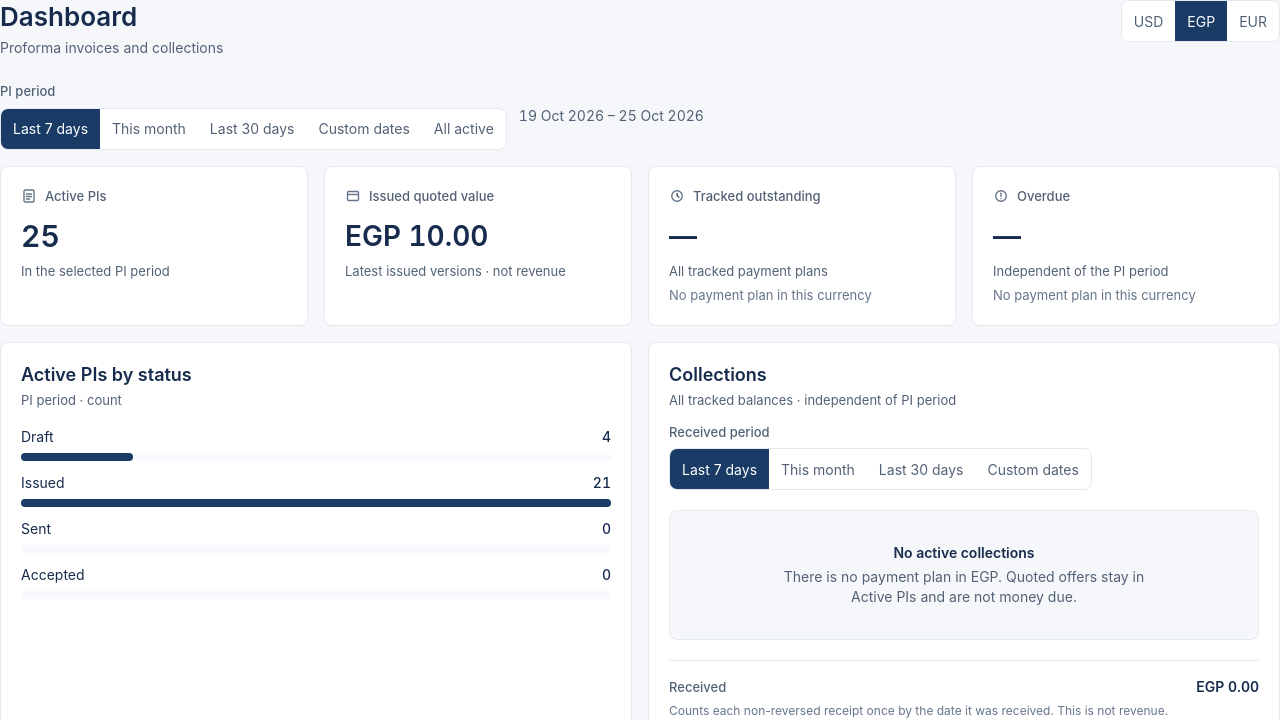
Test: dashboard currency, filters, and figures › keeps the currency in the address and does not switch it when later data includes another currency
This screenshot has width=1280, height=720.
Click the button "USD" at (1149, 21), box [1122,1,1175,41]
(page scrolled)
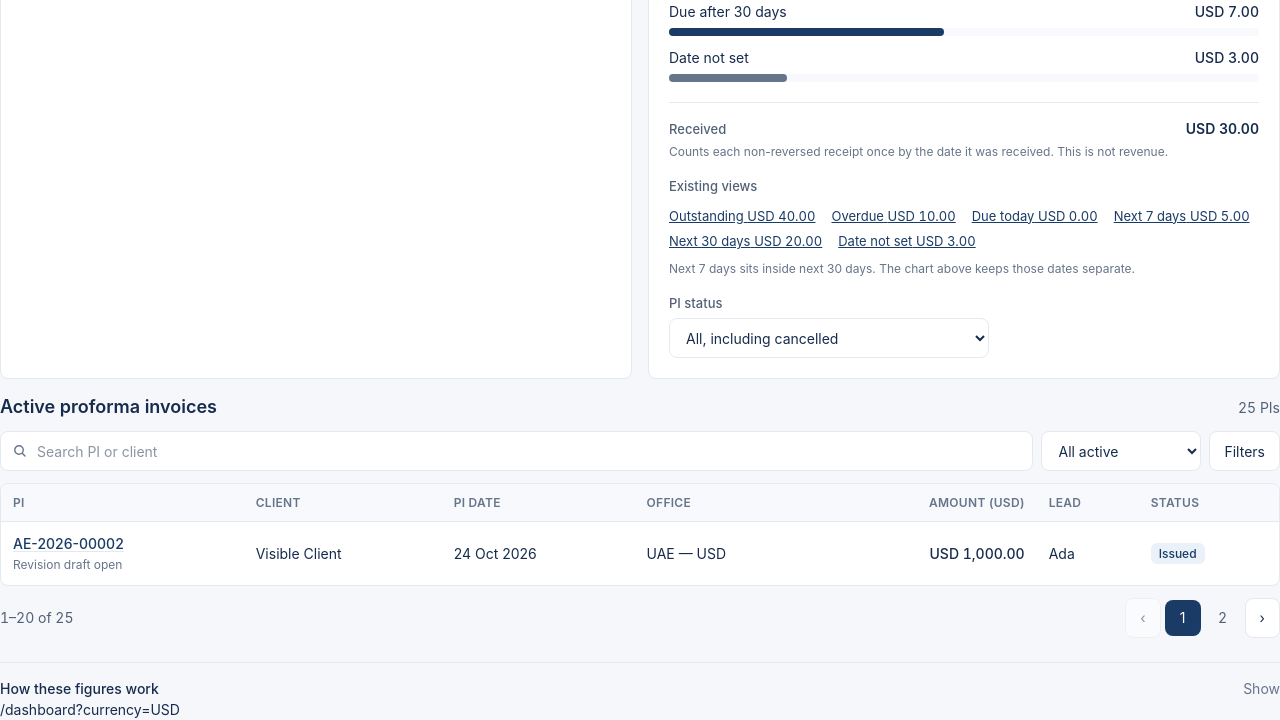
Result: the text "USD 1,000.00" is shown at [821,522,1037,585]
Result: the text with test id "location" shows "currency=USD" at [0,701,180,718]
